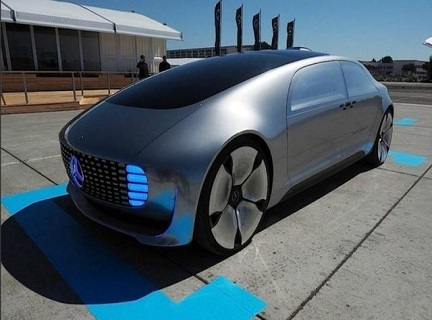奔驰-F015: (52, 52, 399, 256)
